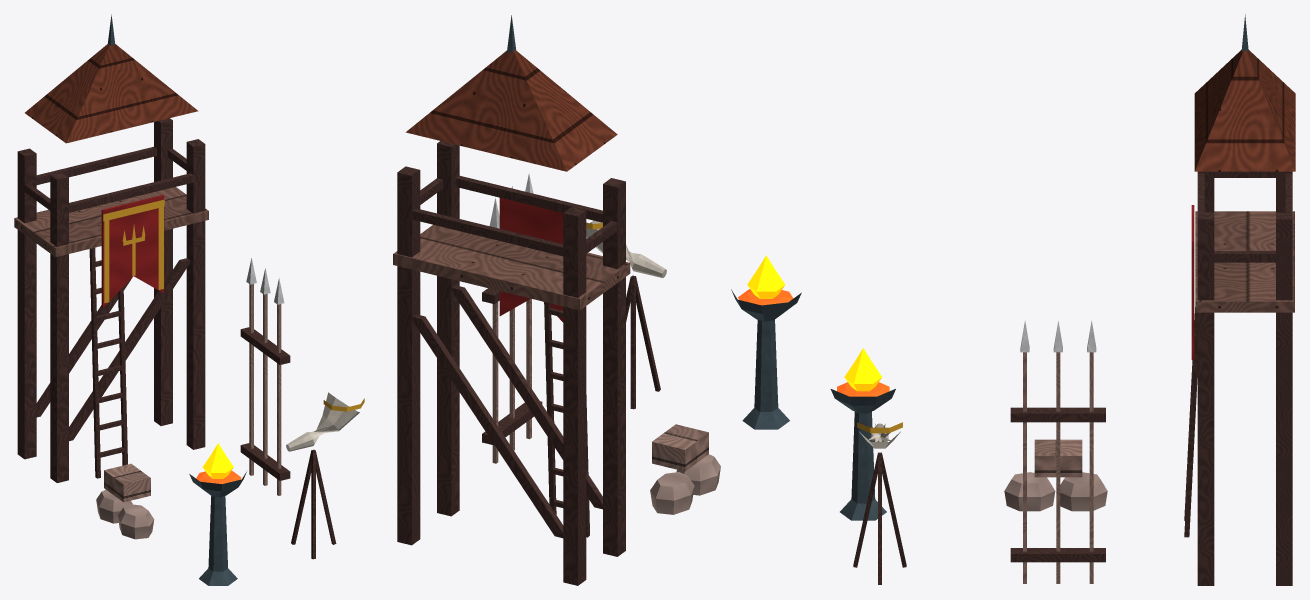
Rendered from guardpost.glb.
The picture shows the model from 3 angles, left to right: view 1: azimuth 30°, elevation 25°; view 2: azimuth 150°, elevation 25°; view 3: azimuth 270°, elevation 25°; orthographic projection. The views are drawn at different scales.
Visible parts, largest first — view 1: base_mesh, flame_0_mesh; view 2: base_mesh, flame_0_mesh; view 3: base_mesh, flame_0_mesh.
Part boxes in pixels (x1,y1,x2,y2): base_mesh: (14, 14, 364, 585); flame_0_mesh: (202, 443, 233, 478); base_mesh: (393, 15, 801, 585); flame_0_mesh: (747, 255, 785, 298); base_mesh: (830, 14, 1295, 585); flame_0_mesh: (844, 348, 881, 391).
Size of the model in its own units: 1.05 by 2.45 by 1.96.
Materials: 14 (10 with a texture image).
